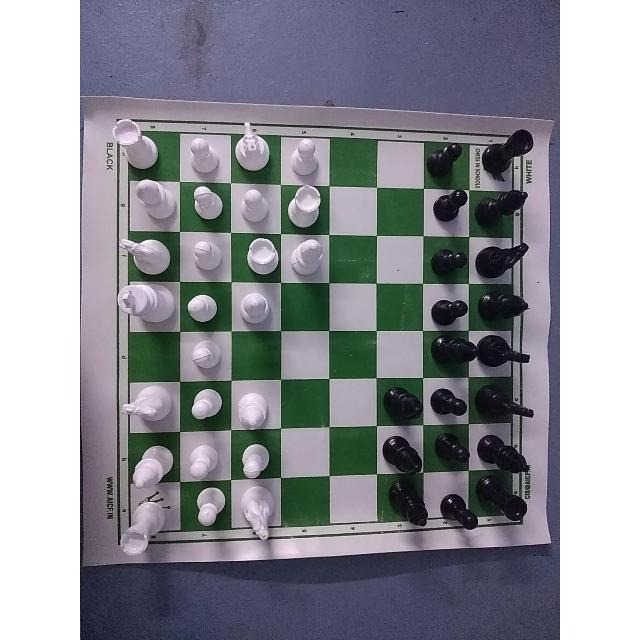black-bishop: (385, 475, 438, 538), (475, 427, 535, 477), (479, 185, 531, 228), (380, 378, 428, 424), (480, 286, 535, 325), (384, 427, 426, 475), (434, 332, 476, 378)
black-knight: (476, 385, 540, 429), (479, 332, 531, 376), (485, 239, 531, 285)
black-pawn: (439, 489, 476, 537), (426, 384, 470, 423), (430, 243, 470, 282), (434, 428, 470, 470), (427, 139, 463, 178), (428, 291, 464, 330), (433, 188, 471, 224)
black-rook: (480, 475, 532, 532), (484, 129, 536, 184)
white-bishop: (132, 441, 176, 496), (132, 177, 178, 224), (235, 286, 276, 336), (284, 236, 323, 278), (234, 388, 270, 432)
white-king: (114, 280, 175, 330)
white-knight: (239, 483, 281, 552), (120, 379, 172, 431), (121, 229, 171, 281), (235, 119, 275, 177)
white-pawn: (181, 129, 225, 177), (188, 484, 227, 536), (184, 232, 228, 277), (185, 381, 225, 427), (182, 283, 222, 327), (284, 139, 328, 179), (235, 436, 275, 477), (185, 183, 225, 223), (181, 441, 220, 480), (183, 339, 225, 375), (237, 189, 272, 229)
white-rook: (111, 112, 169, 172), (117, 501, 174, 556), (236, 234, 284, 277), (282, 185, 328, 226)
